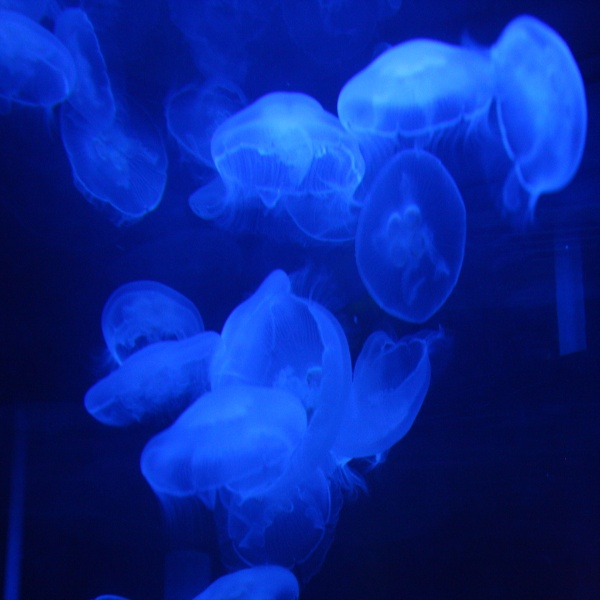Jellyfish: (0, 0, 587, 600)
